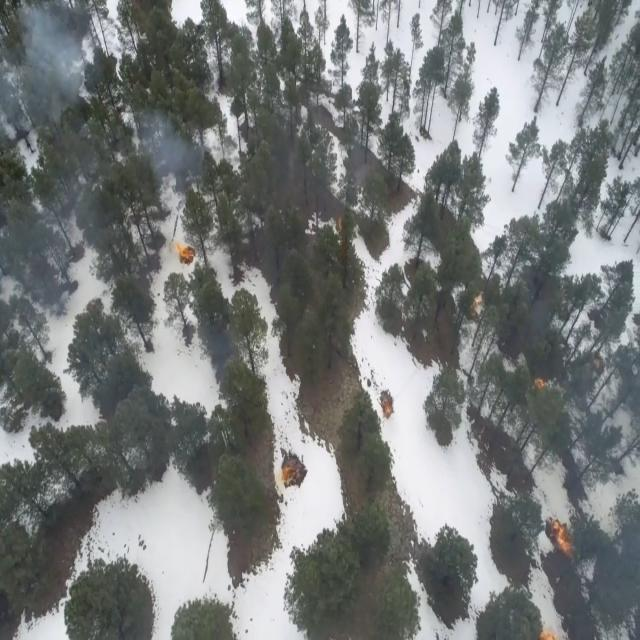Fire: (269, 454, 302, 502), (544, 508, 574, 558), (172, 234, 202, 278), (529, 369, 555, 396), (468, 292, 487, 326), (377, 388, 398, 418), (336, 209, 350, 251), (534, 621, 564, 640), (592, 351, 604, 378)
Smoke: (0, 0, 205, 198), (0, 200, 116, 372)
